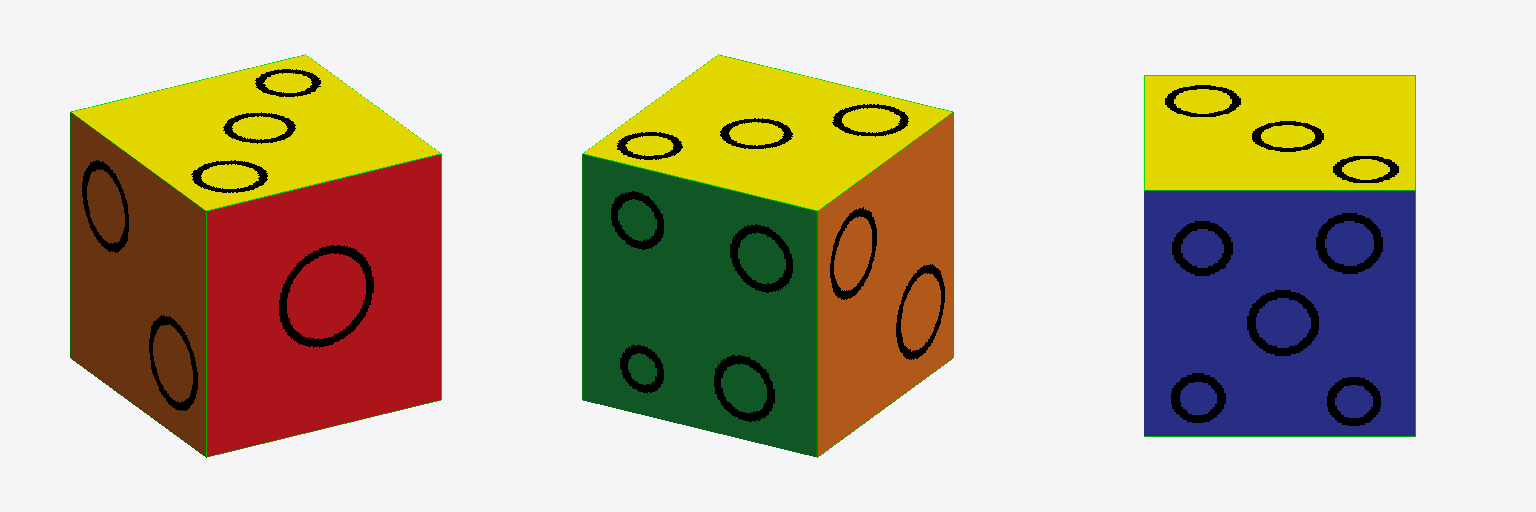
The picture shows the model from 3 angles: view 1: azimuth 30°, elevation 25°; view 2: azimuth 150°, elevation 25°; view 3: azimuth 270°, elevation 25°; orthographic projection.
Visible parts, largest first — view 1: Cube (2); view 2: Cube (2); view 3: Cube (2).
Boxes of the visible parts, box(x1,y1,x2,y2) form: Cube (2): box(70, 54, 441, 457); Cube (2): box(582, 54, 953, 457); Cube (2): box(1144, 75, 1415, 436).
Bounding box in the file's own units: 20 × 20 × 20.
1 materials, 1 textured.